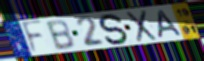2: (75, 15, 107, 50)
A: (157, 9, 184, 40)
B: (44, 18, 77, 51)
F: (21, 19, 45, 56)
S: (98, 13, 130, 46)
X: (125, 9, 159, 44)
